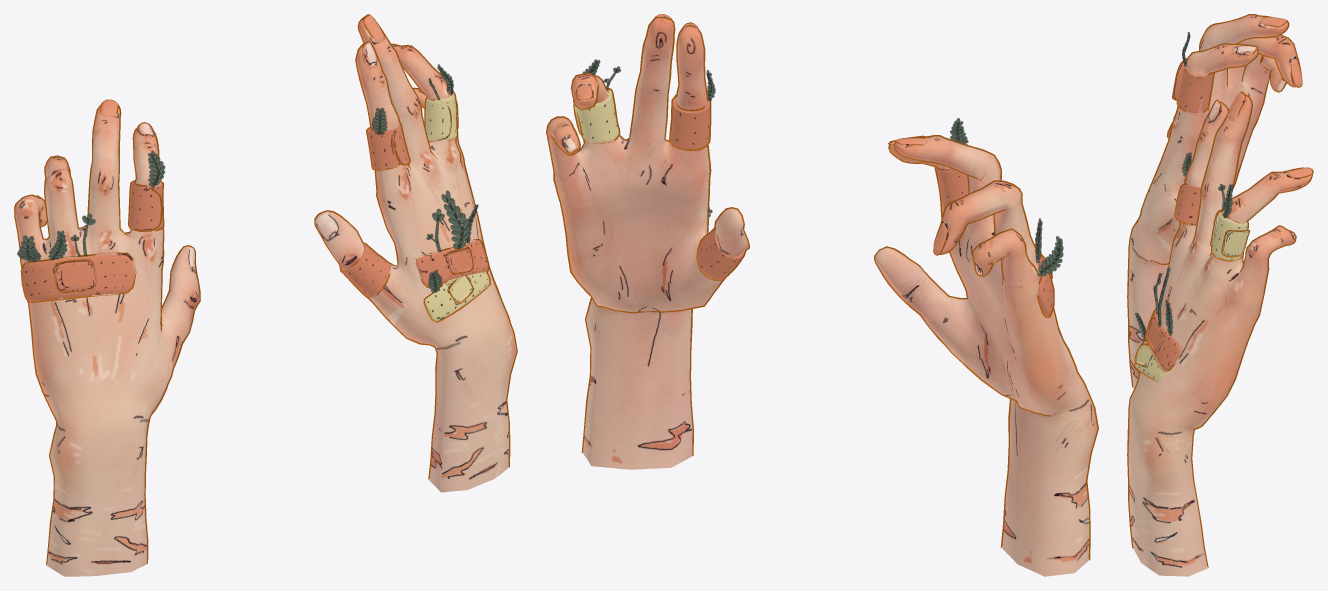
Rendered from hands.gltf.
3 renders of one model, left to right at view 1: azimuth 30°, elevation 25°; view 2: azimuth 150°, elevation 25°; view 3: azimuth 270°, elevation 25°, orthographic. The views are drawn at different scales.
Visible parts, largest first — view 1: Object_4, Object_5, Object_6, Object_2, Object_3; view 2: Object_4, Object_6, Object_5, Object_2, Object_3; view 3: Object_4, Object_6, Object_5, Object_2, Object_3.
Boxes of the visible parts, x1,y1,x2,y2 form: Object_4: (15,15,516,576); Object_5: (22,93,489,321); Object_6: (14,14,517,565); Object_2: (17,64,478,292); Object_3: (17,65,477,291); Object_4: (547,14,1097,576); Object_6: (546,14,1098,560); Object_5: (574,90,1053,316); Object_2: (583,59,1063,276); Object_3: (583,60,1062,275); Object_4: (1128,15,1312,576); Object_6: (1127,14,1313,567); Object_5: (1135,59,1248,380); Object_2: (1135,32,1233,341); Object_3: (1135,32,1232,340).
Bounding box in the file's own units: 0.9811 × 0.9041 × 0.3501.
5 materials, 2 textured.
